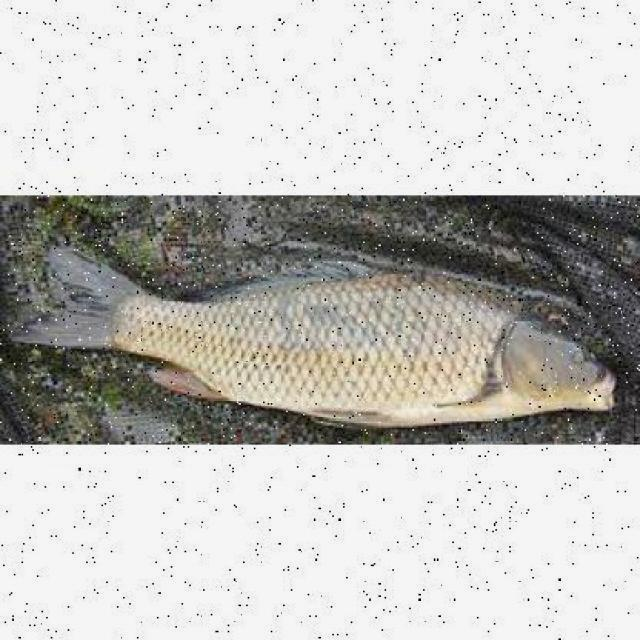ikan-mas: (36, 244, 619, 420)
